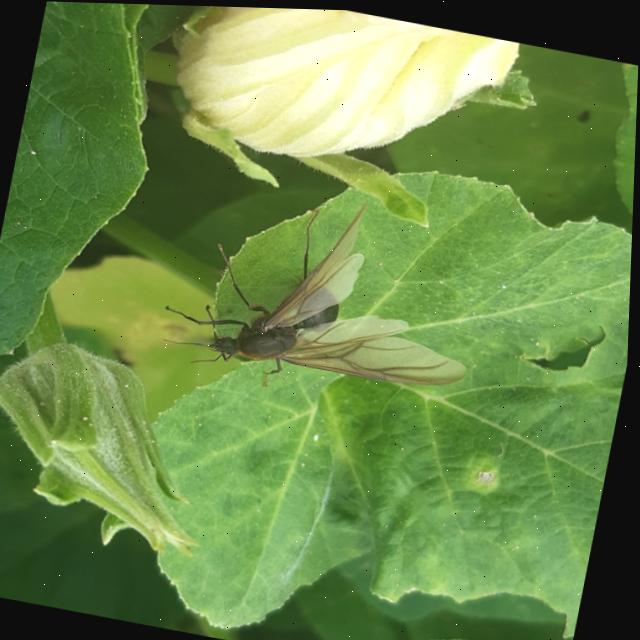Alive-Male-Alate: (154, 165, 499, 422)
